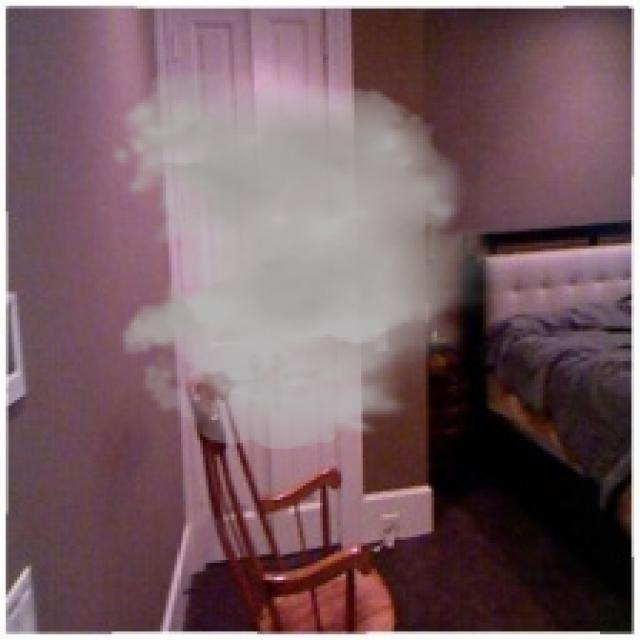Smoke: (109, 69, 518, 448)
